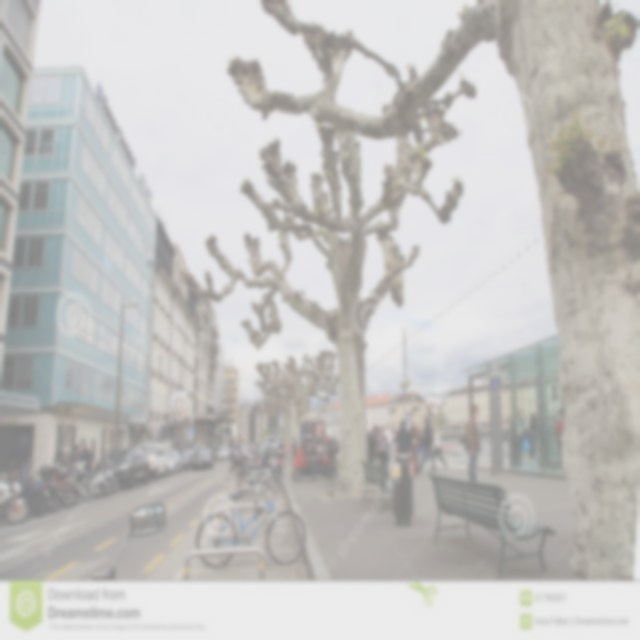pessoa: (414, 414, 438, 474), (464, 404, 482, 483), (427, 423, 449, 473), (375, 424, 390, 480), (409, 417, 421, 477), (395, 418, 413, 454), (554, 408, 566, 461), (527, 412, 538, 460), (515, 408, 523, 467), (372, 424, 382, 466), (383, 422, 393, 464), (409, 429, 417, 477), (520, 415, 528, 462), (246, 437, 256, 472), (228, 440, 238, 474), (314, 424, 324, 458), (328, 429, 338, 462), (70, 443, 84, 465), (416, 428, 424, 461), (290, 436, 298, 461), (546, 413, 556, 432), (81, 442, 90, 462), (369, 422, 376, 444), (367, 433, 372, 463), (271, 437, 280, 452), (278, 438, 286, 451), (502, 417, 510, 430), (286, 442, 292, 459), (56, 448, 63, 462), (236, 443, 242, 452), (253, 440, 260, 447)
